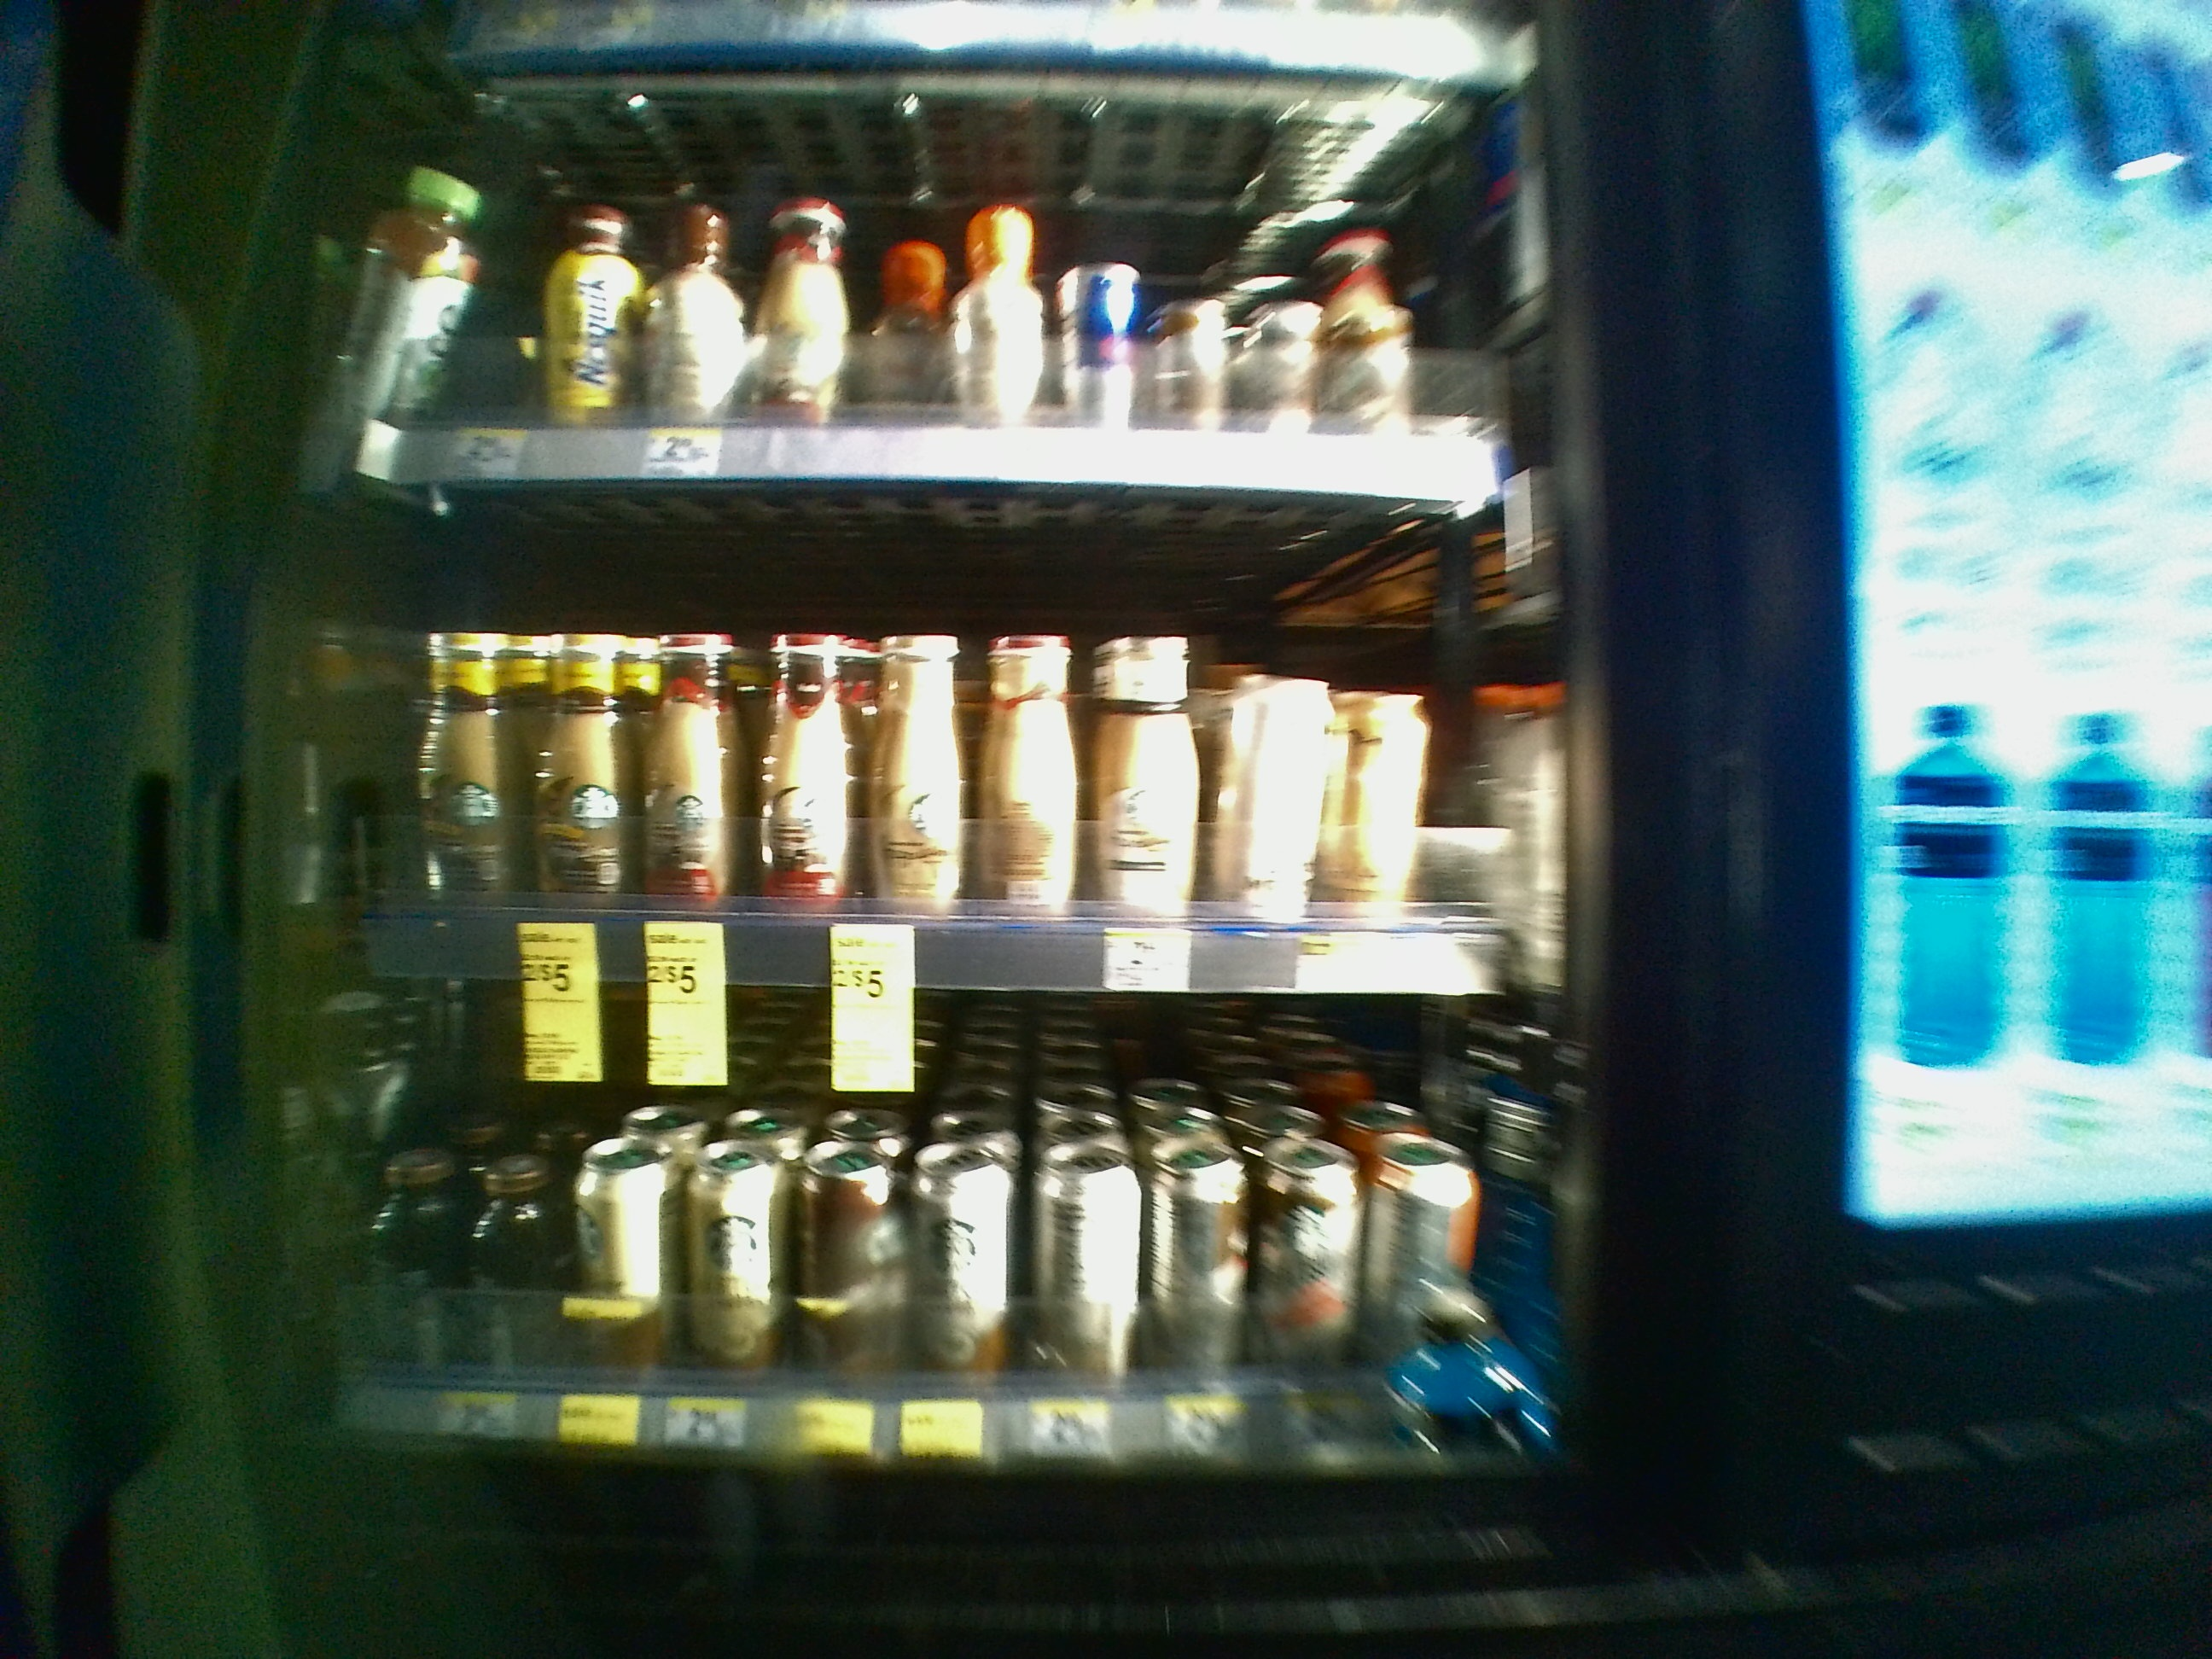shelf: (282, 976, 1590, 1478), (289, 502, 1573, 990)
